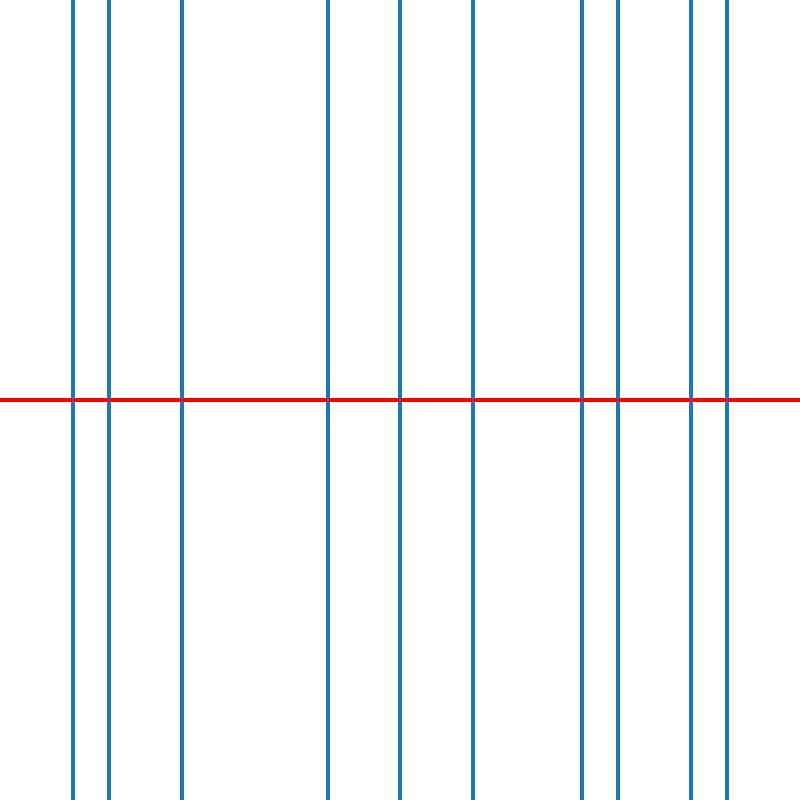root: (396, 396, 403, 404), (323, 396, 330, 404), (578, 396, 585, 404), (178, 396, 185, 404), (687, 396, 694, 404), (723, 396, 730, 404), (105, 396, 112, 404), (614, 396, 621, 404), (469, 396, 476, 404), (69, 396, 76, 404)
